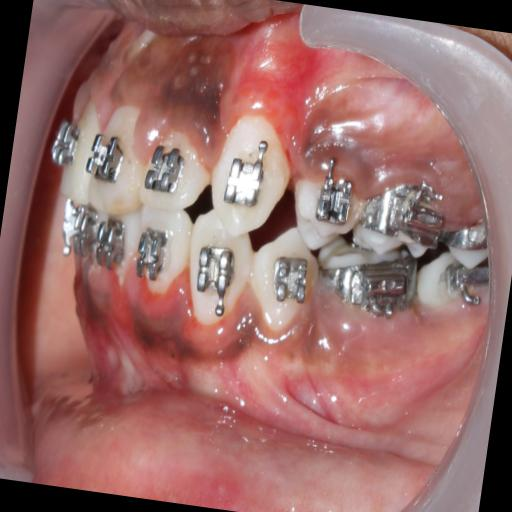correct_brace: (286, 144, 378, 252), (81, 126, 135, 190), (220, 152, 272, 211), (142, 140, 188, 200)
incorrect_brace: (136, 126, 216, 222), (312, 175, 356, 230)
